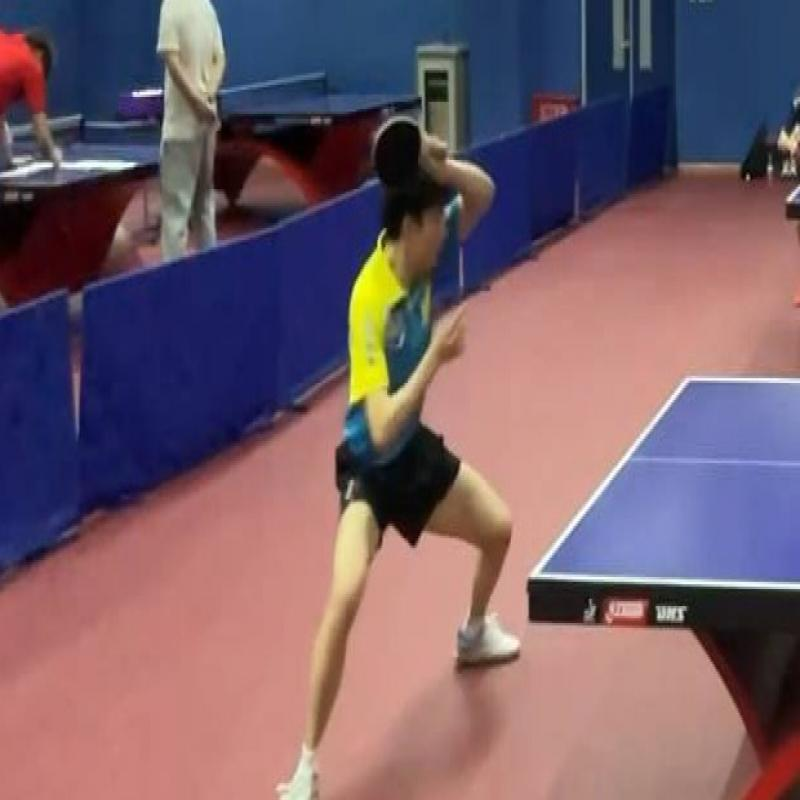bats: (360, 114, 439, 199)
